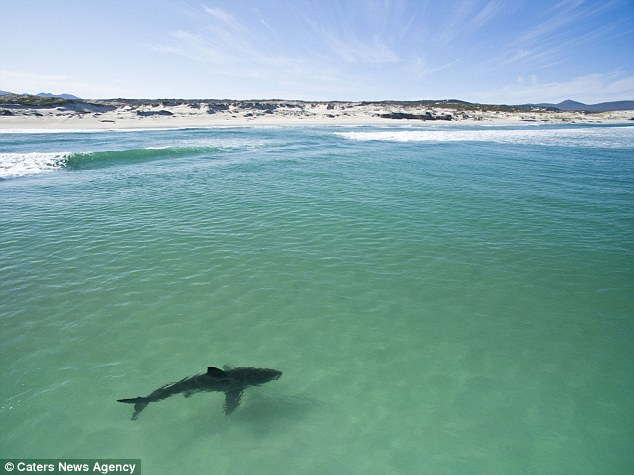shark: (108, 358, 287, 433)
